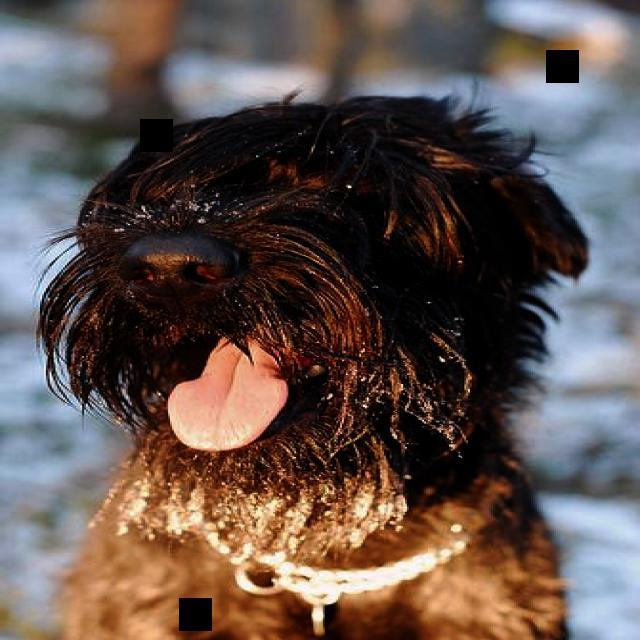adult_dog: (30, 92, 593, 640)
